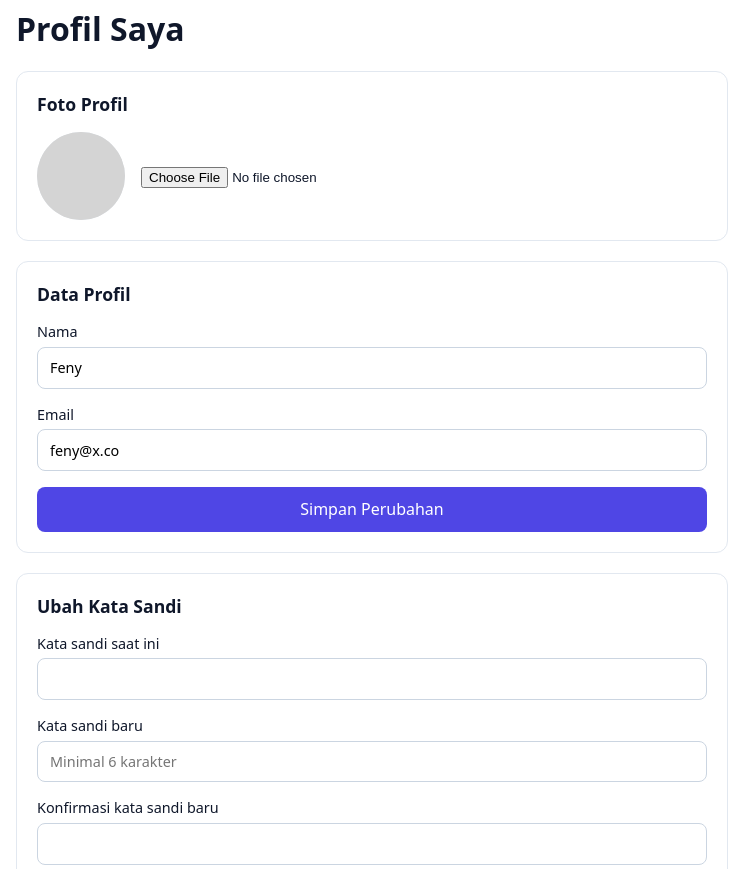
ProfilePage: data profil › berhasil menyimpan
Replace the text in the field labelled "Nama" with "  Baru " at (372, 368), box [37,347,707,389]
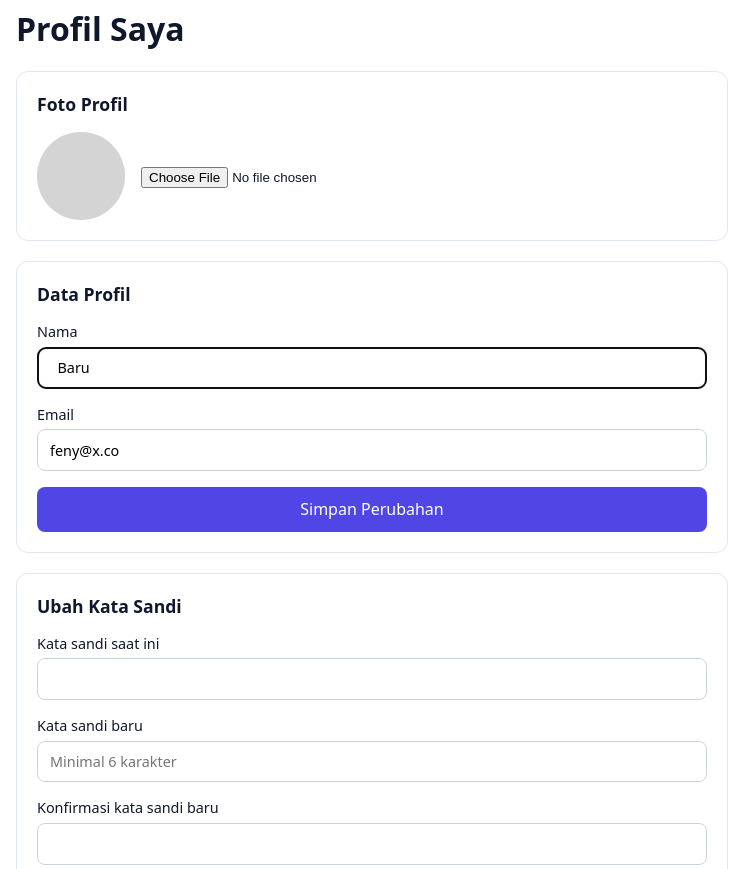
Click the button "Simpan Perubahan" at (372, 509), box [37,487,707,532]
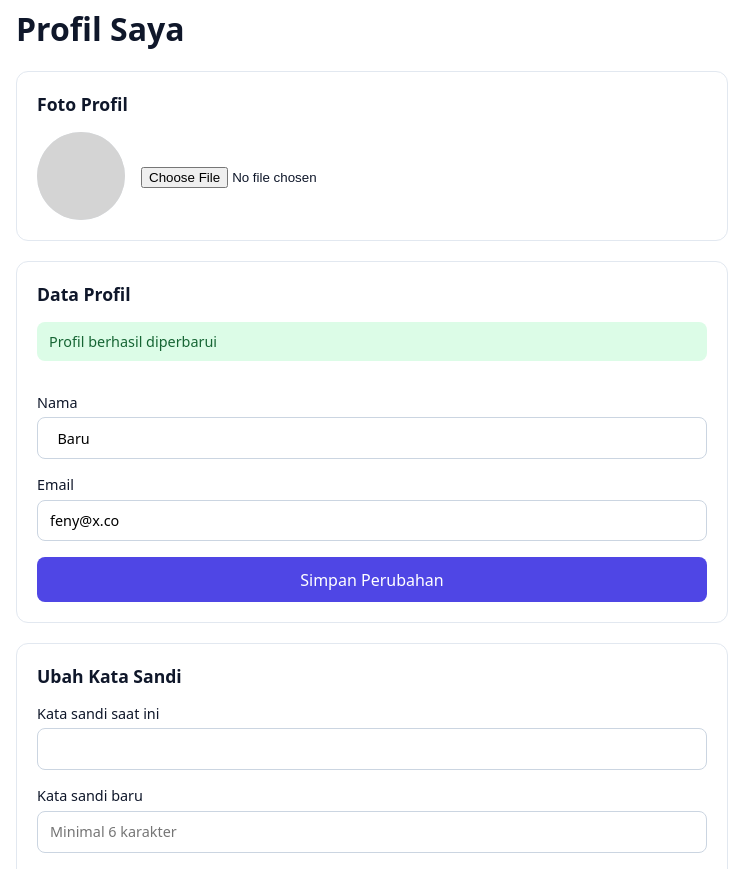
Check: the text "Profil berhasil diperbarui" is shown, box [37,322,707,361]
